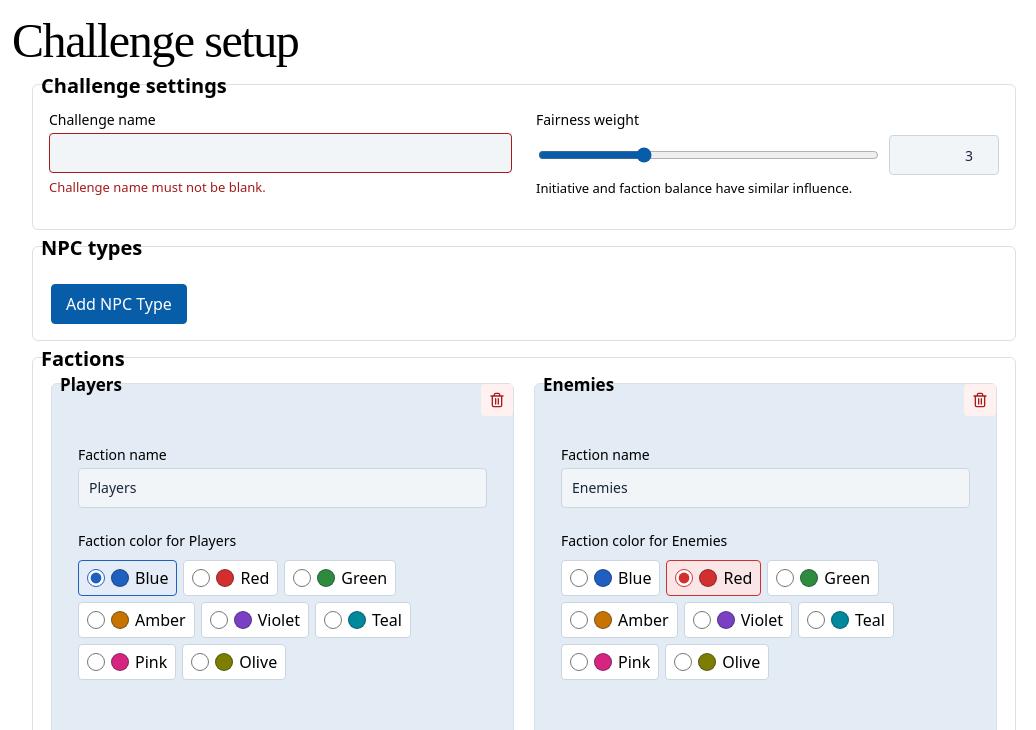
Scenario: new challenge setup › adds players and NPCs to their faction without opening forms
The image size is (1036, 730).
Expected: the heading "Challenge setup" is shown, [12,14,298,67]
Click the button "Add NPC Type": (119, 304) [51,284,187,324]
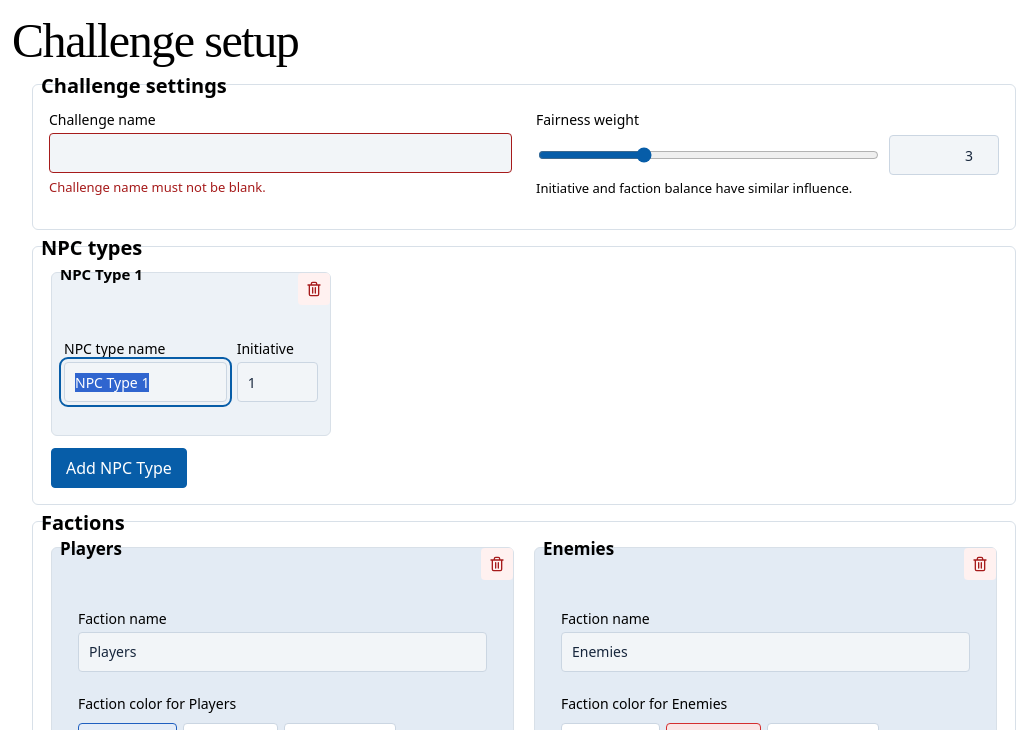
Click the button "Add NPC Type": (119, 468) [51,448,187,488]
(page scrolled)
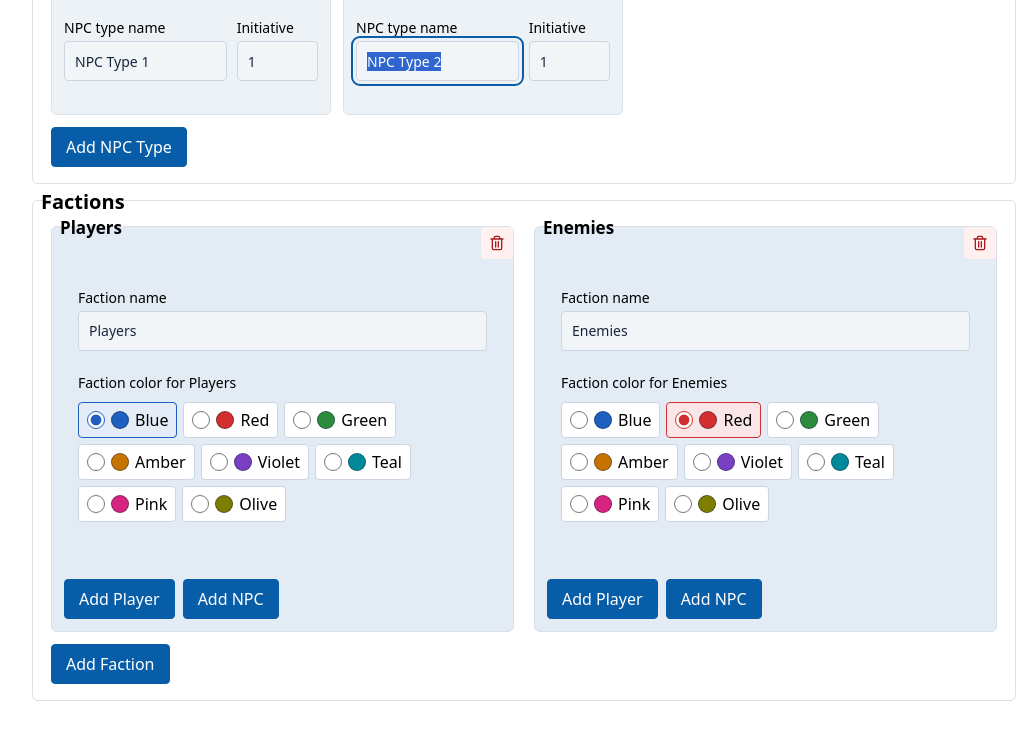
Click the button "Add Player" below "Faction color for Players": (119, 599) [64,579,175,619]
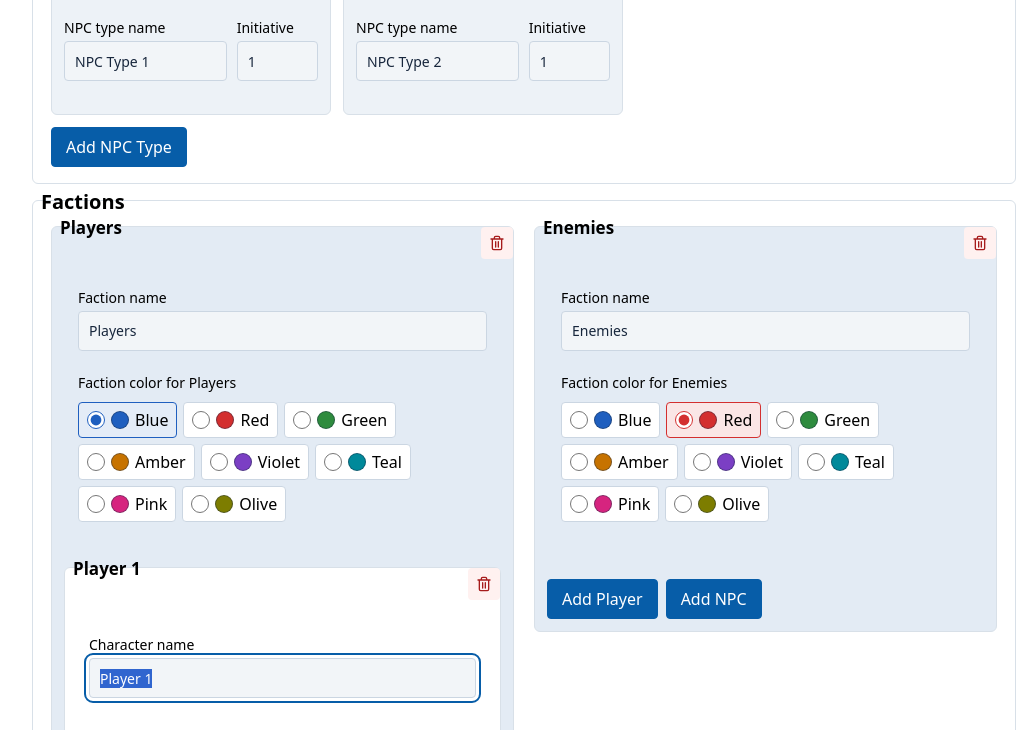
Click the button "Add NPC": (714, 599) [666,579,762,619]
(page scrolled)
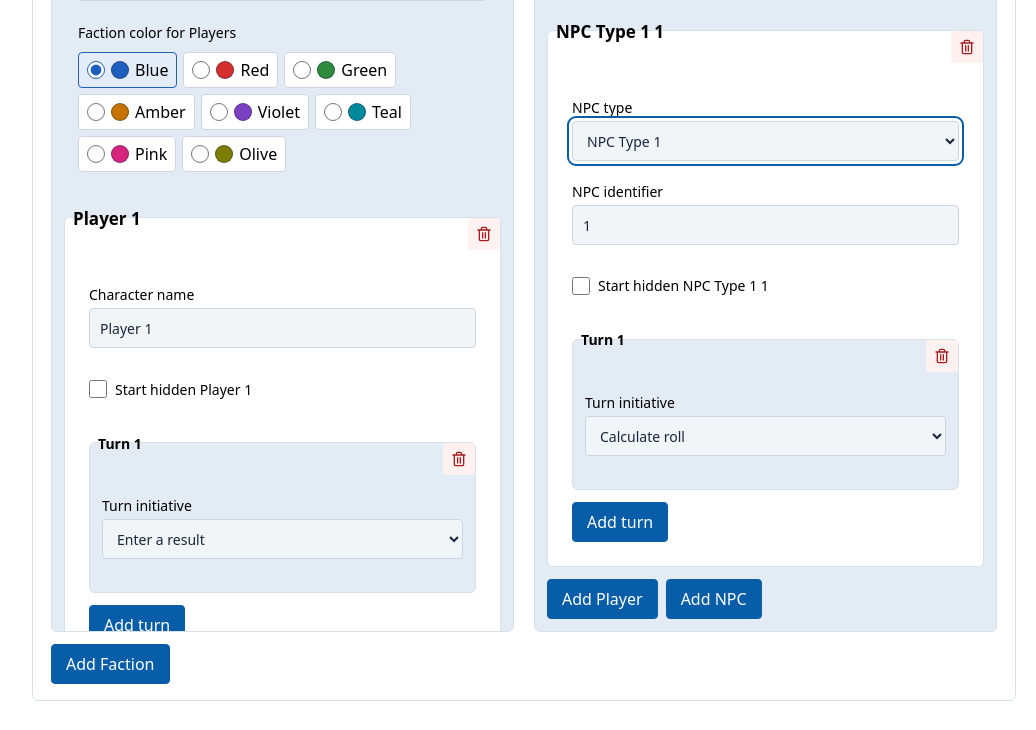
Now the element "NPC Type 1 1" is shown, box [560,86,971,554]
Now the 1st dropdown labelled "Turn initiative" shows "Calculate roll", box [585,416,946,456]
Click the button with aria-label "Add turn for NPC Type 1 1": (620, 522) [572,502,668,542]
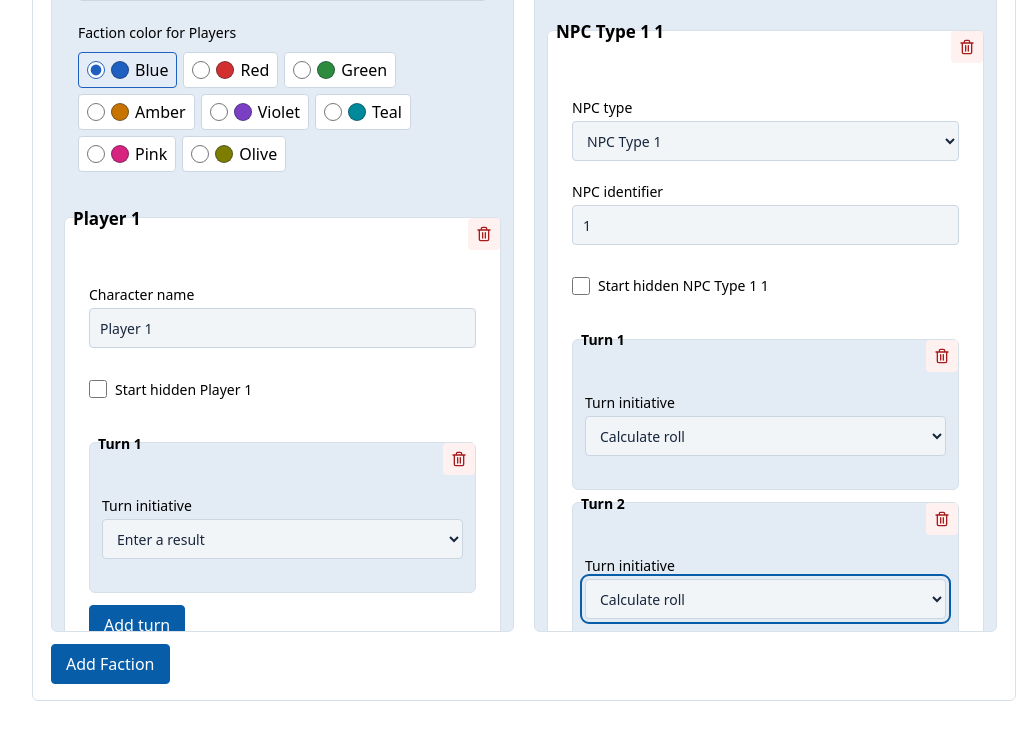
Now the dropdown labelled "Turn initiative" below "Turn 2" shows "Calculate roll", box [585,579,946,619]
